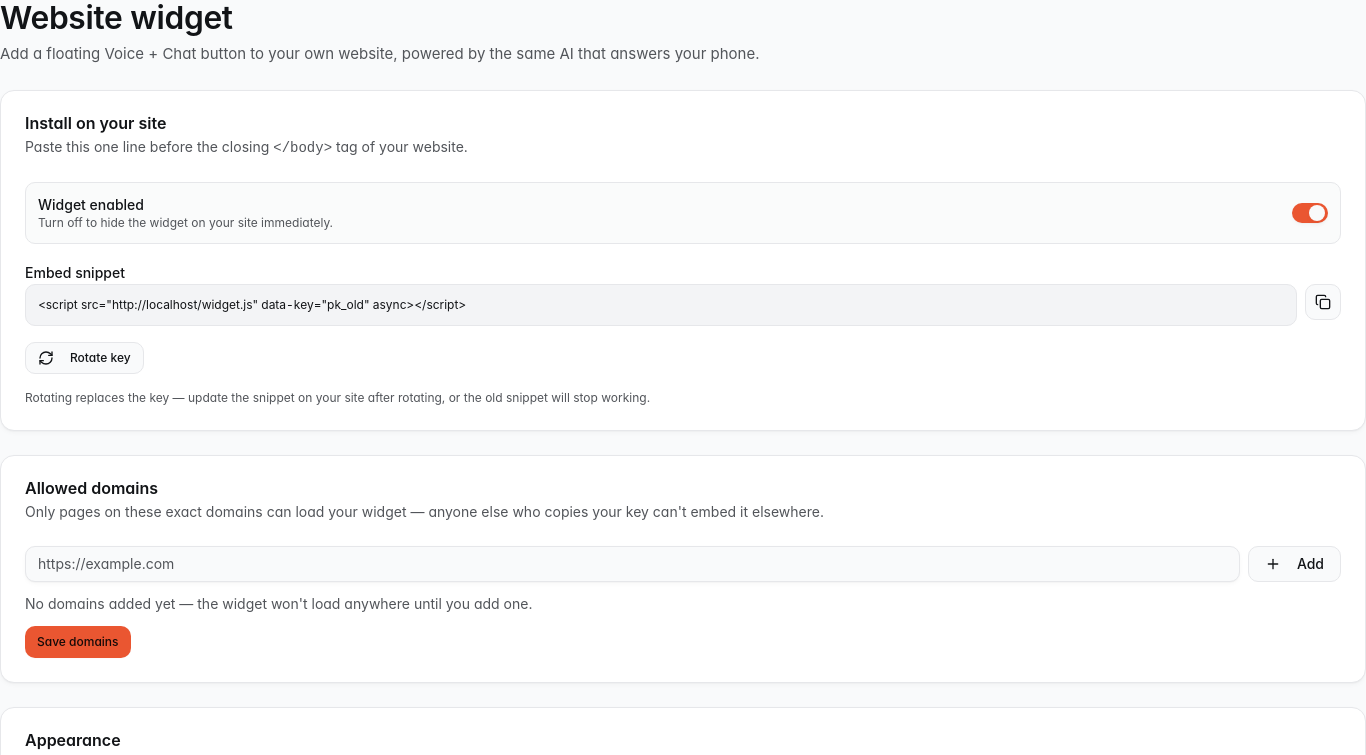
Test: WebsiteWidgetClient › QA-1 F-13: rotating the key asks first (the live snippet stops working), then swaps the snippet
Expected: the text "data-key=\"pk_old\"" is shown, [38,297,466,312]
Click the button "Rotate key": click(84, 358) [25,342,144,374]
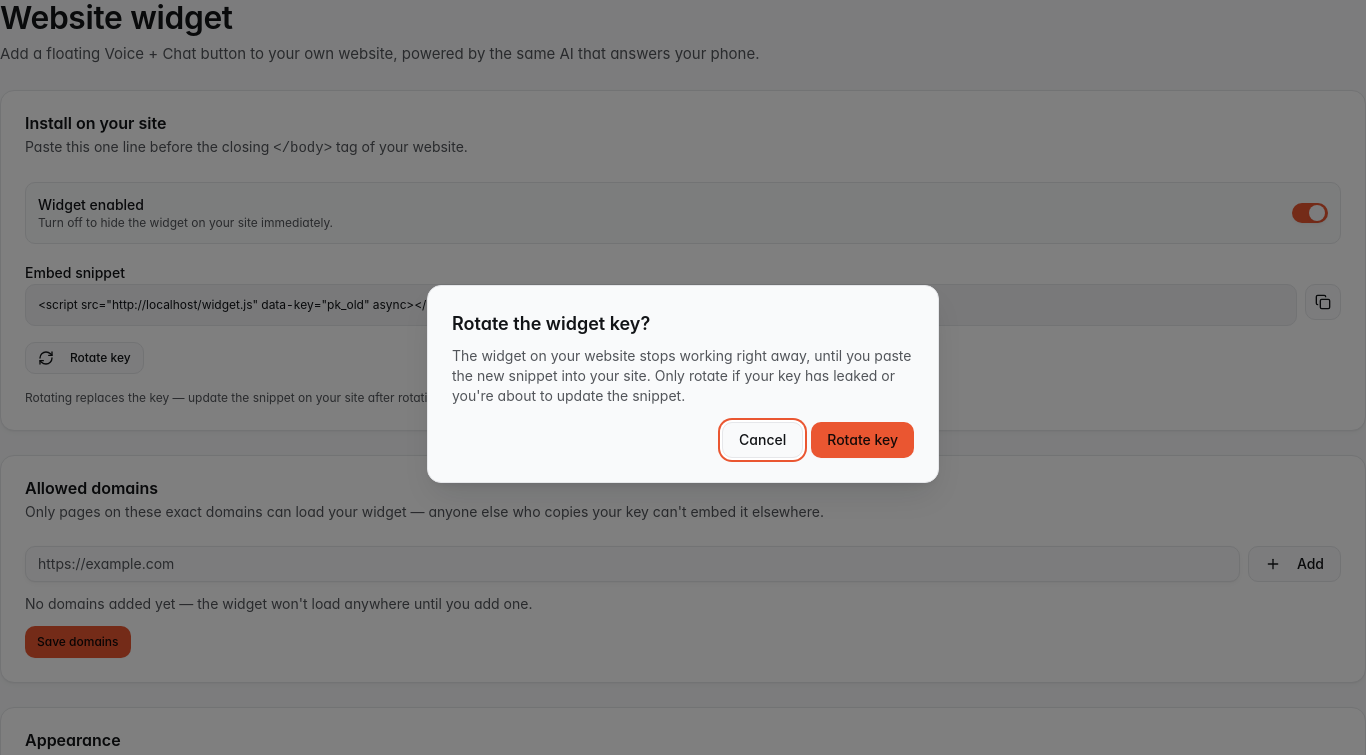
Now the text "stops working right away" is shown, box [452,347,912,404]
Click the button "Rotate key": click(863, 440) [811,422,914,458]
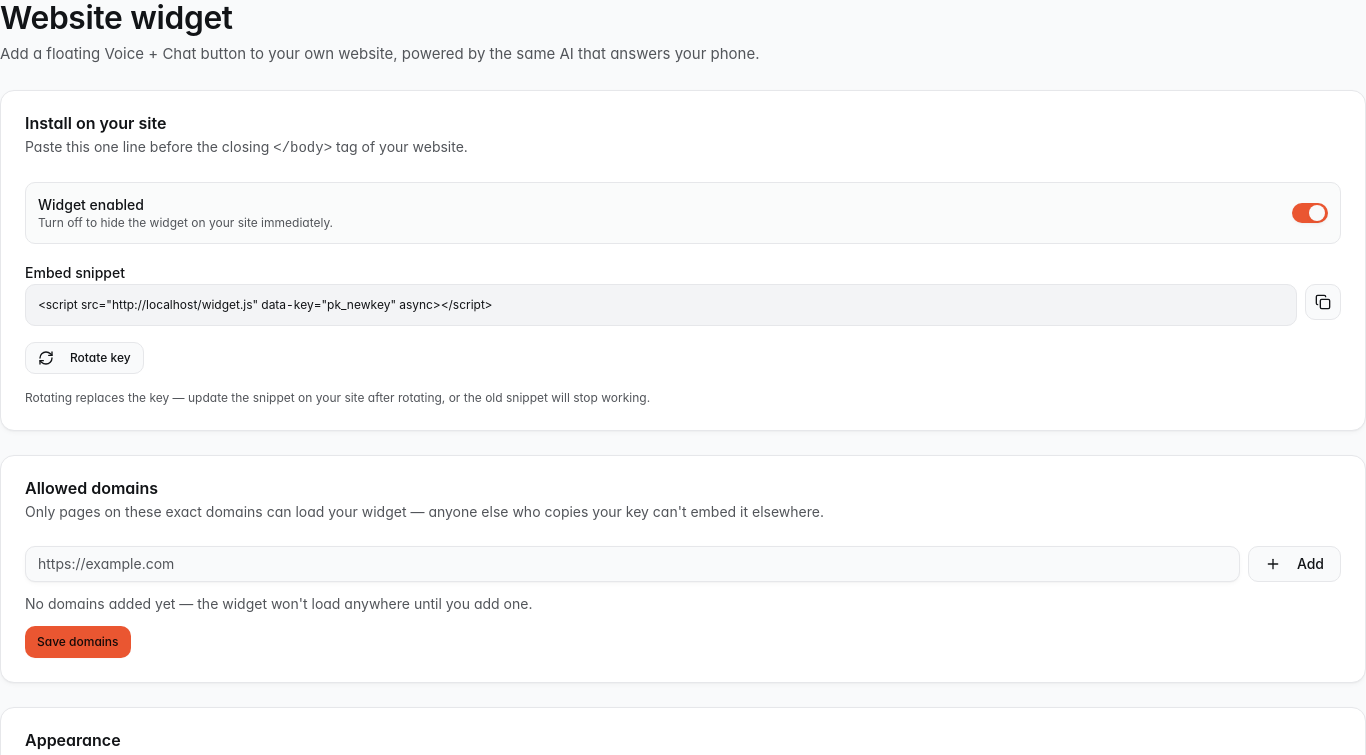
Now the text "data-key=\"pk_newkey\"" is shown, box [38,297,493,312]
